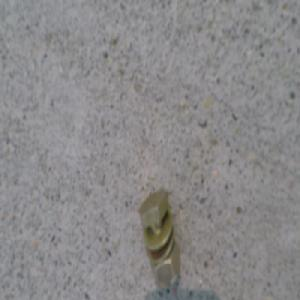BoltNutSet: (135, 186, 177, 282)
